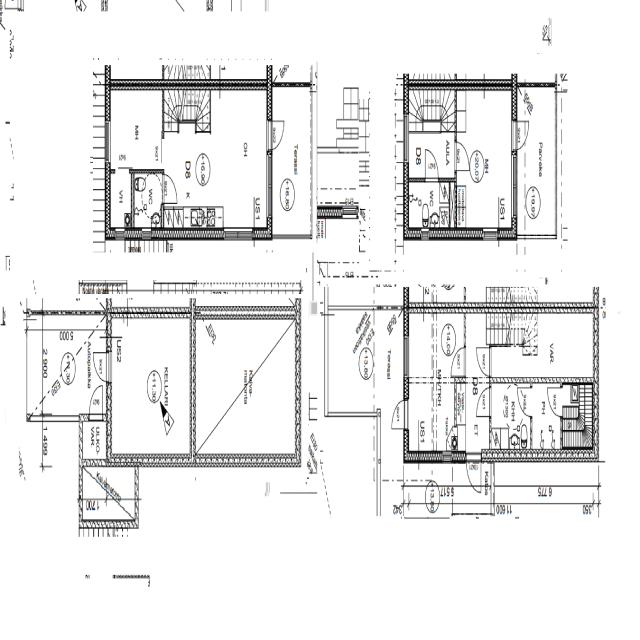door: (466, 451, 481, 494), (266, 121, 286, 150), (511, 121, 530, 150), (93, 353, 112, 381), (89, 384, 103, 421), (391, 400, 409, 428), (450, 347, 466, 376), (517, 388, 533, 417), (476, 388, 492, 416), (476, 348, 492, 376), (162, 174, 177, 203), (425, 149, 438, 182), (548, 388, 562, 416), (455, 142, 469, 170)
